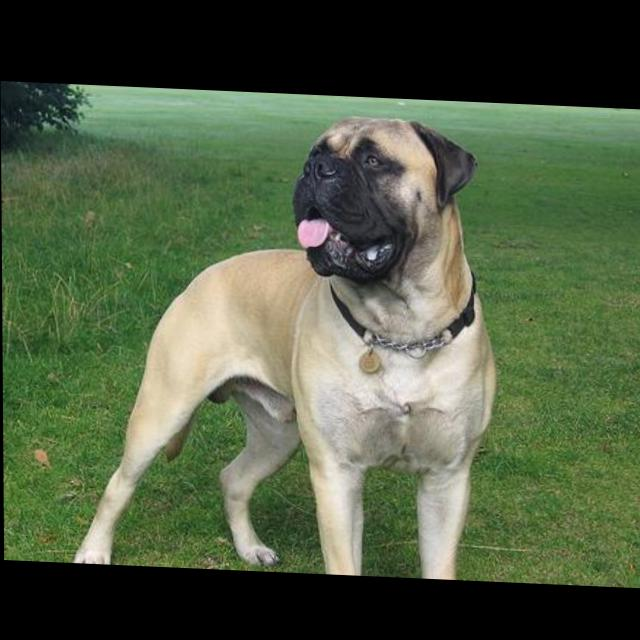bullmastiff: (68, 101, 500, 577)
